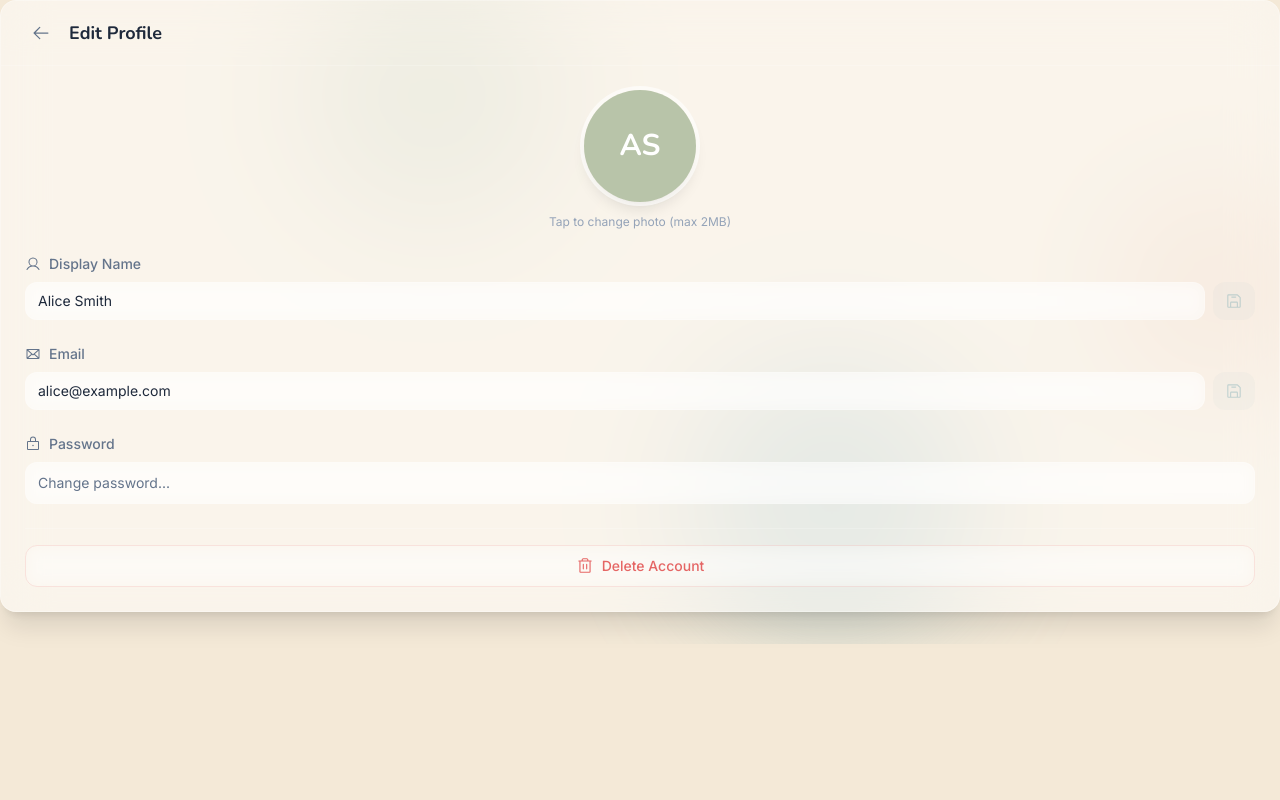
it: ProfileEditForm › shows name update success message
The image size is (1280, 800).
Replace the text in the field showing "Alice Smith" below "Display Name" with "Bob Jones" at (615, 301), box [25,282,1205,320]
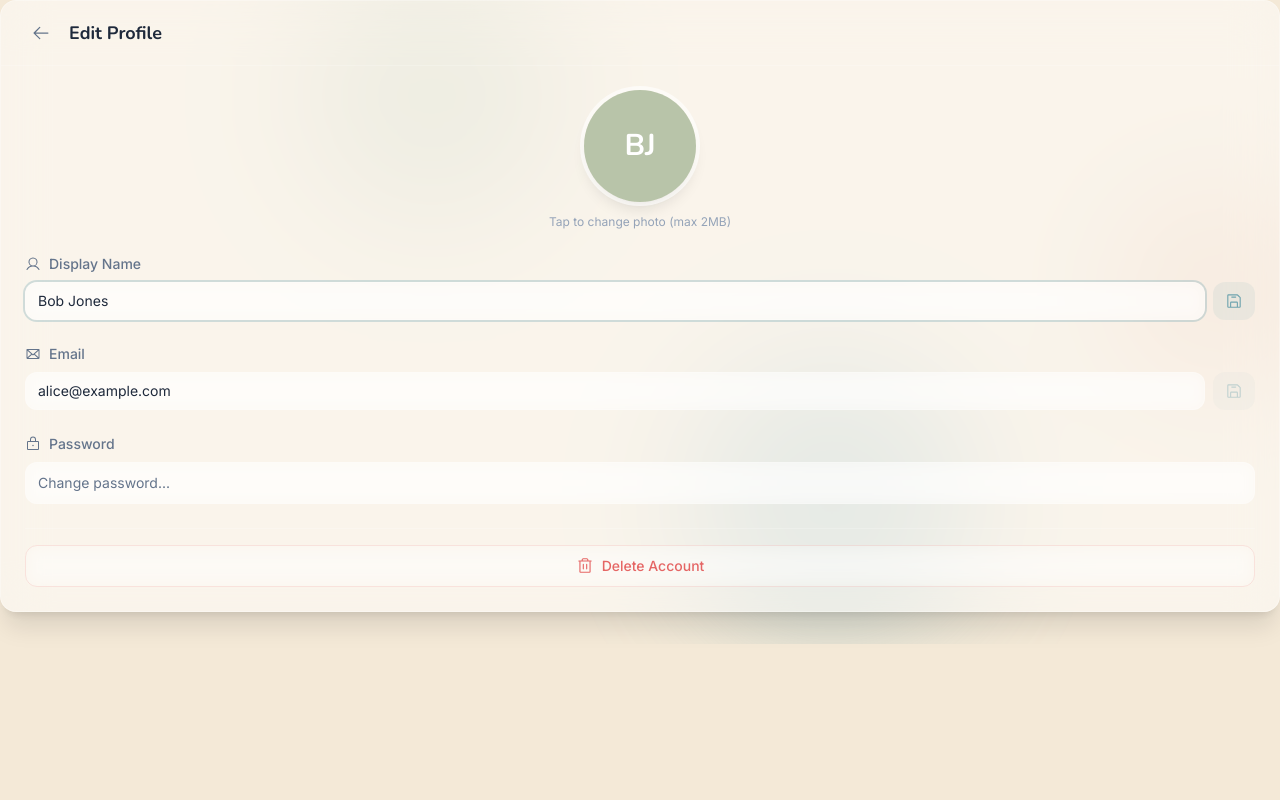
Click the 3rd button at (1234, 301), box [1213,282,1255,320]
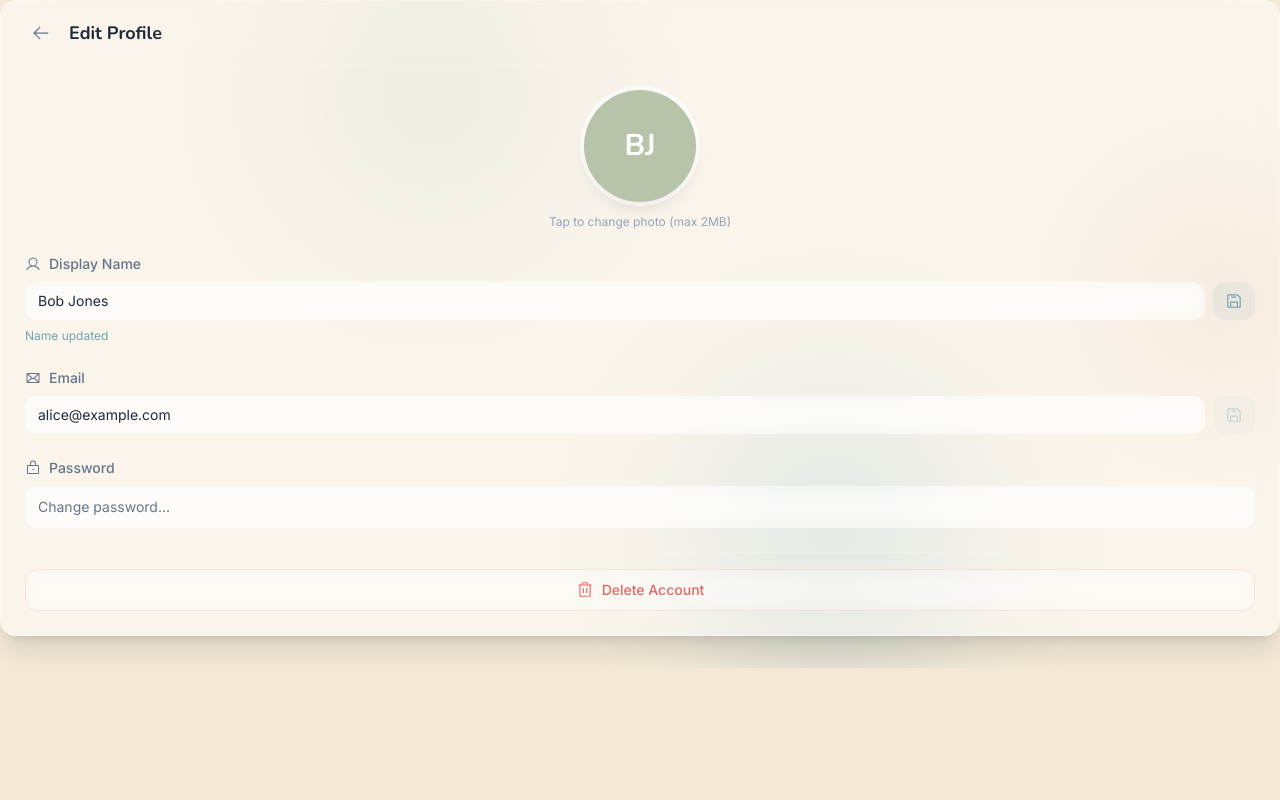
Now the text "Name updated" is shown, box [25,328,108,343]
